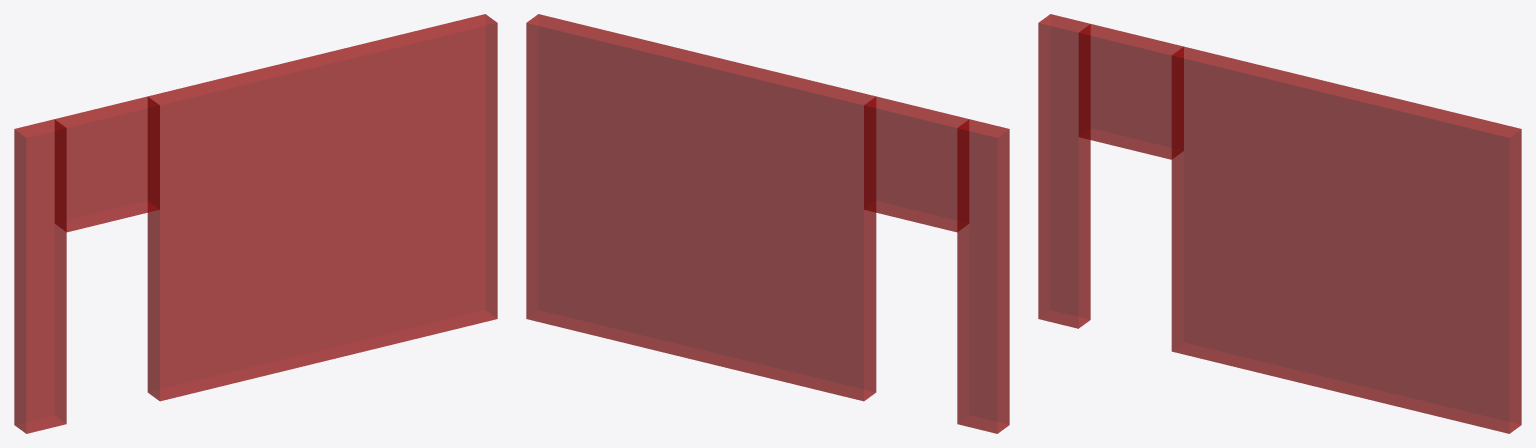
The model's file is SM_Bld_ShopFront_09_Collision.fbx.
The picture shows the model from 3 angles, left to right: view 1: azimuth 30°, elevation 25°; view 2: azimuth 150°, elevation 25°; view 3: azimuth 330°, elevation 25°; orthographic projection.
Visible parts, largest first — view 1: SM_Bld_ShopFront_09_Collision; view 2: SM_Bld_ShopFront_09_Collision; view 3: SM_Bld_ShopFront_09_Collision.
Boxes of the visible parts, box(x1,y1,x2,y2) form: SM_Bld_ShopFront_09_Collision: box(14, 14, 497, 433); SM_Bld_ShopFront_09_Collision: box(526, 14, 1009, 433); SM_Bld_ShopFront_09_Collision: box(1038, 14, 1521, 433).
Size of the model in its own units: 500 by 300 by 22.5.
